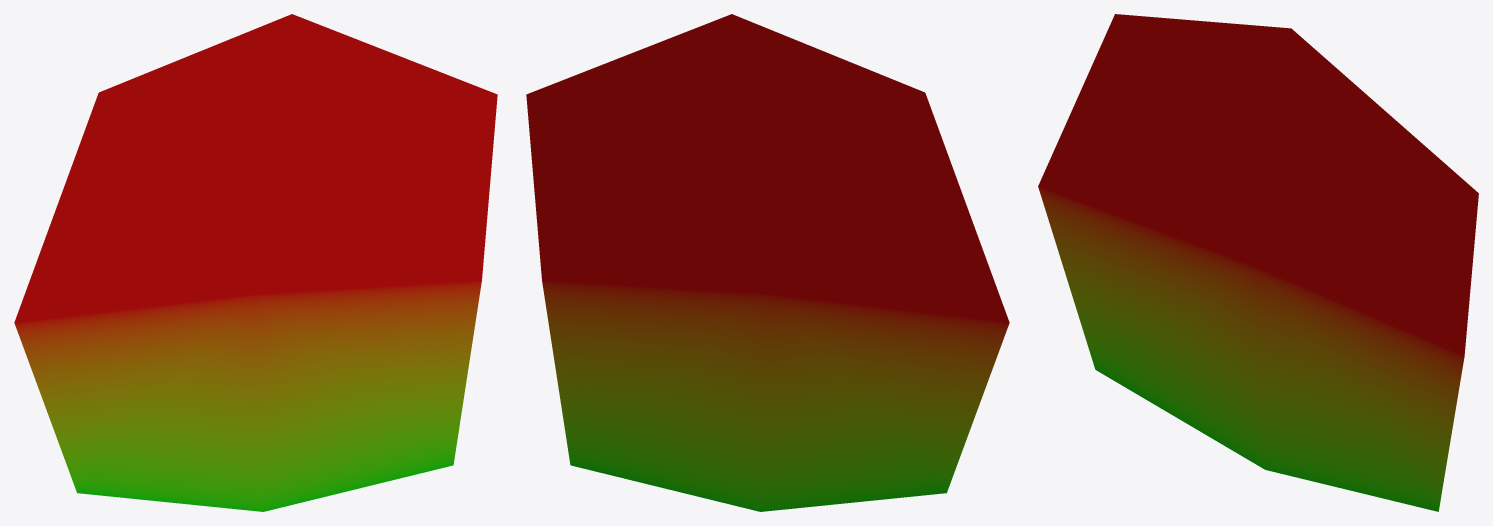
File: Lemongrass_LOD3_Var4_sktne.fbx
3 renders of one model, left to right at view 1: azimuth 30°, elevation 25°; view 2: azimuth 150°, elevation 25°; view 3: azimuth 330°, elevation 25°, orthographic. The views are drawn at different scales.
Visible parts, largest first — view 1: _9f62_Var4_LOD3; view 2: _9f62_Var4_LOD3; view 3: _9f62_Var4_LOD3.
Part boxes in pixels (<box>): _9f62_Var4_LOD3: <box>14,14,497,511</box>; _9f62_Var4_LOD3: <box>526,14,1009,511</box>; _9f62_Var4_LOD3: <box>1038,14,1478,511</box>.
Bounding box in the file's own units: 68.71 × 66.7 × 5.25e-06.
